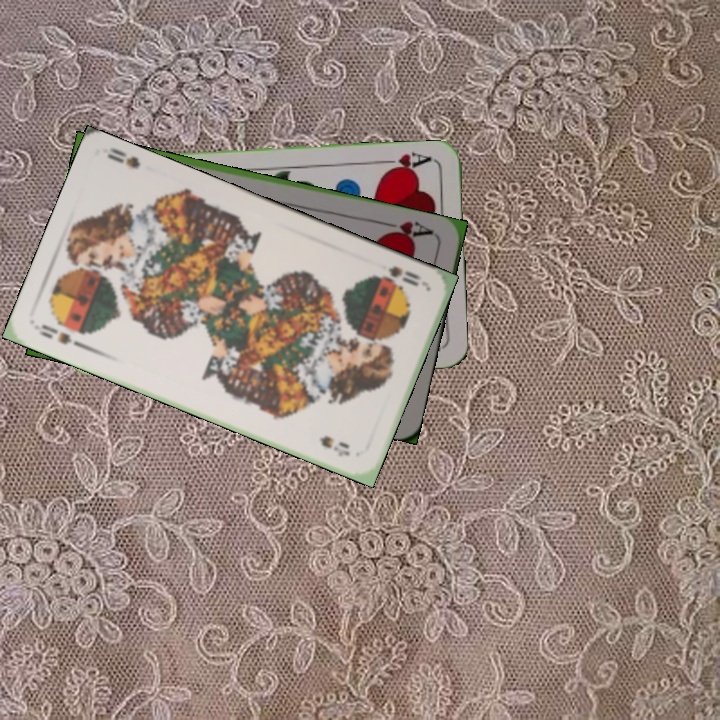HA: (376, 148, 435, 176), (378, 217, 438, 244)
SO: (34, 320, 89, 352), (369, 262, 424, 290)
